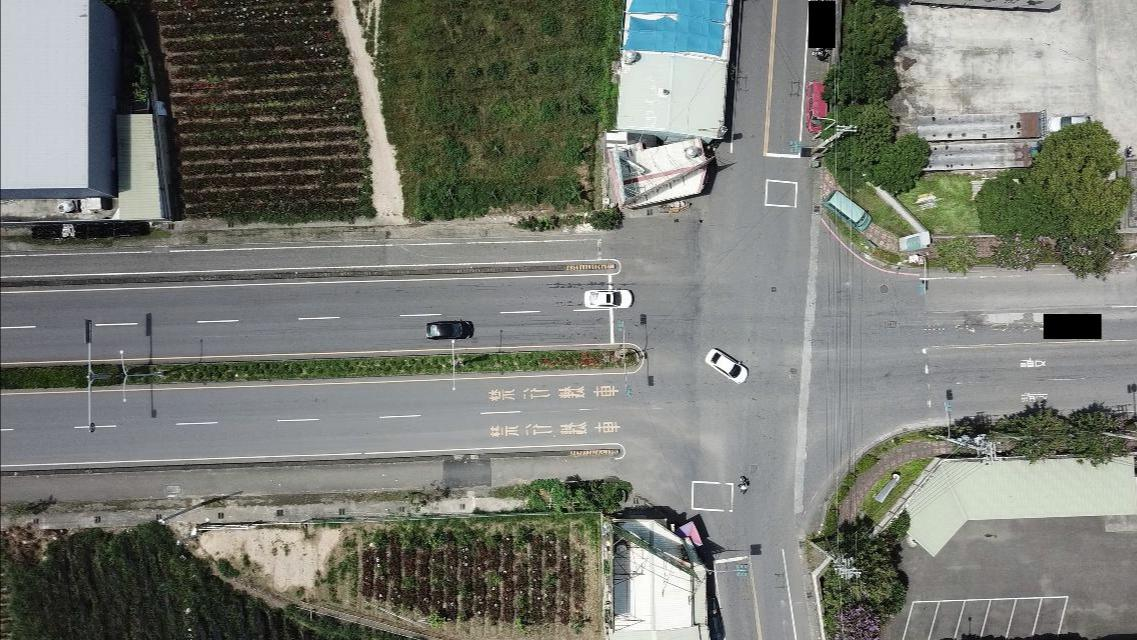vehicle: (825, 190, 873, 229), (705, 349, 749, 383), (804, 77, 829, 129), (581, 288, 634, 308), (1050, 113, 1095, 136), (705, 597, 729, 639), (423, 319, 473, 339)
